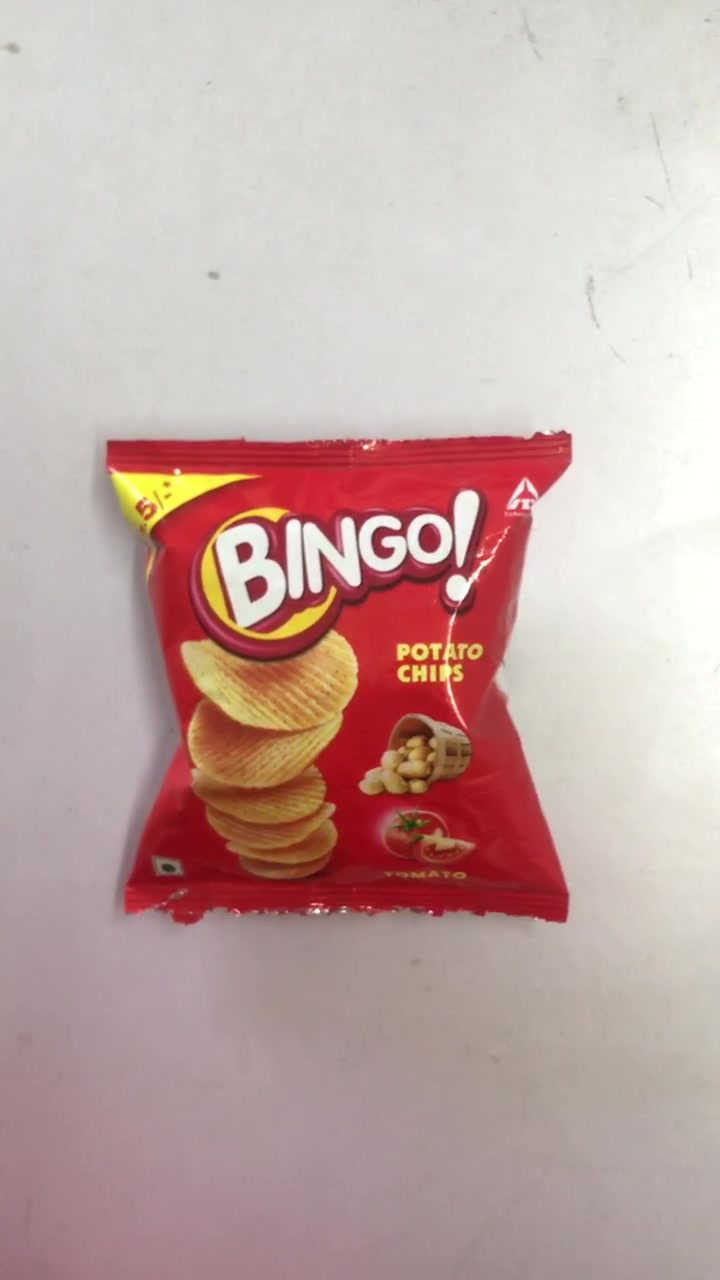Bingo: (112, 445, 564, 907)
